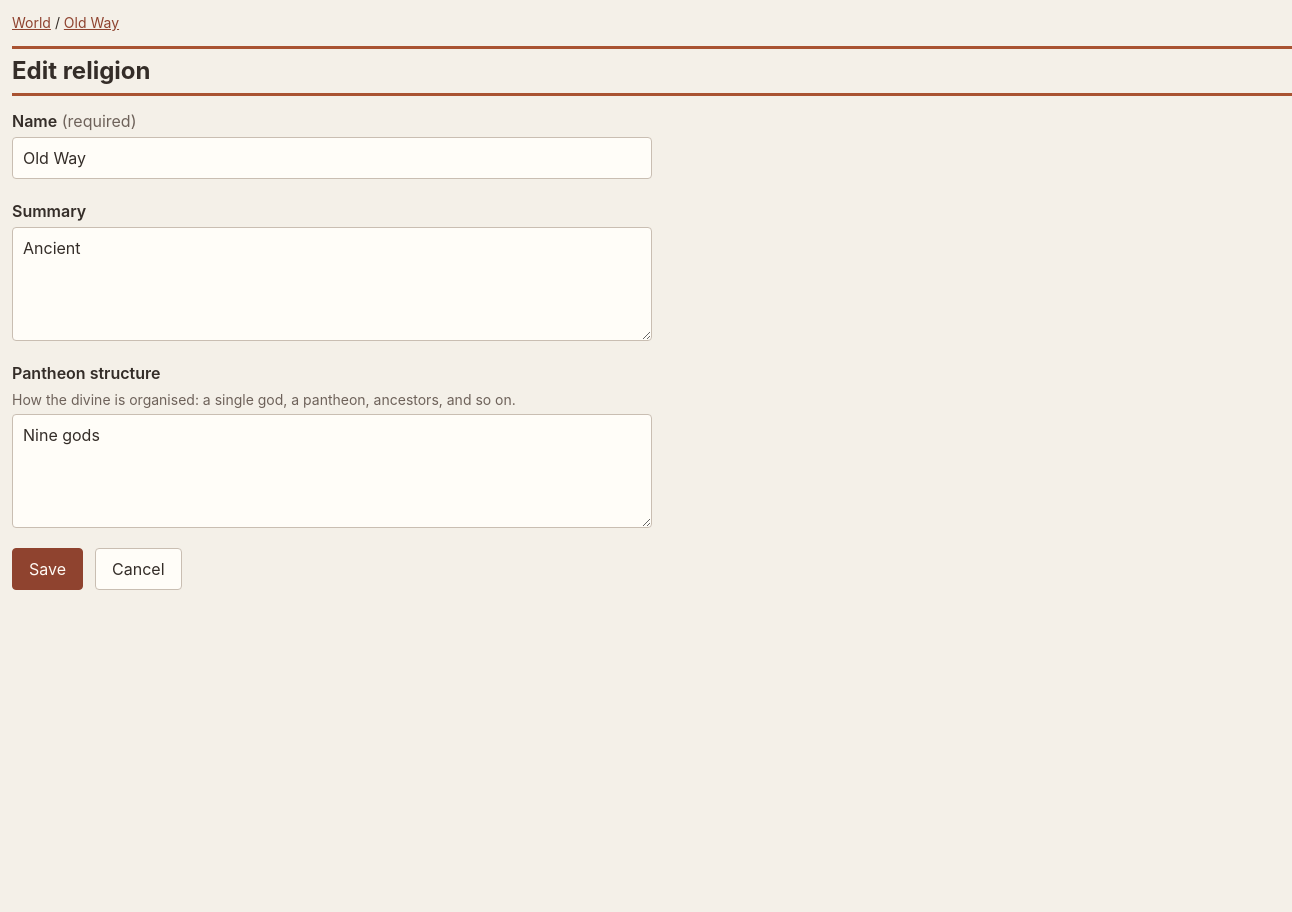
EditReligionPage › keeps the user's values across a stale write
The image size is (1292, 912).
Expected: the field labelled "Name (required)" is shown, 12,137 -> 652,179
Replace the text in the text box labelled "Summary" with "Mine". click: x=332, y=284
box: 12,227 -> 652,341
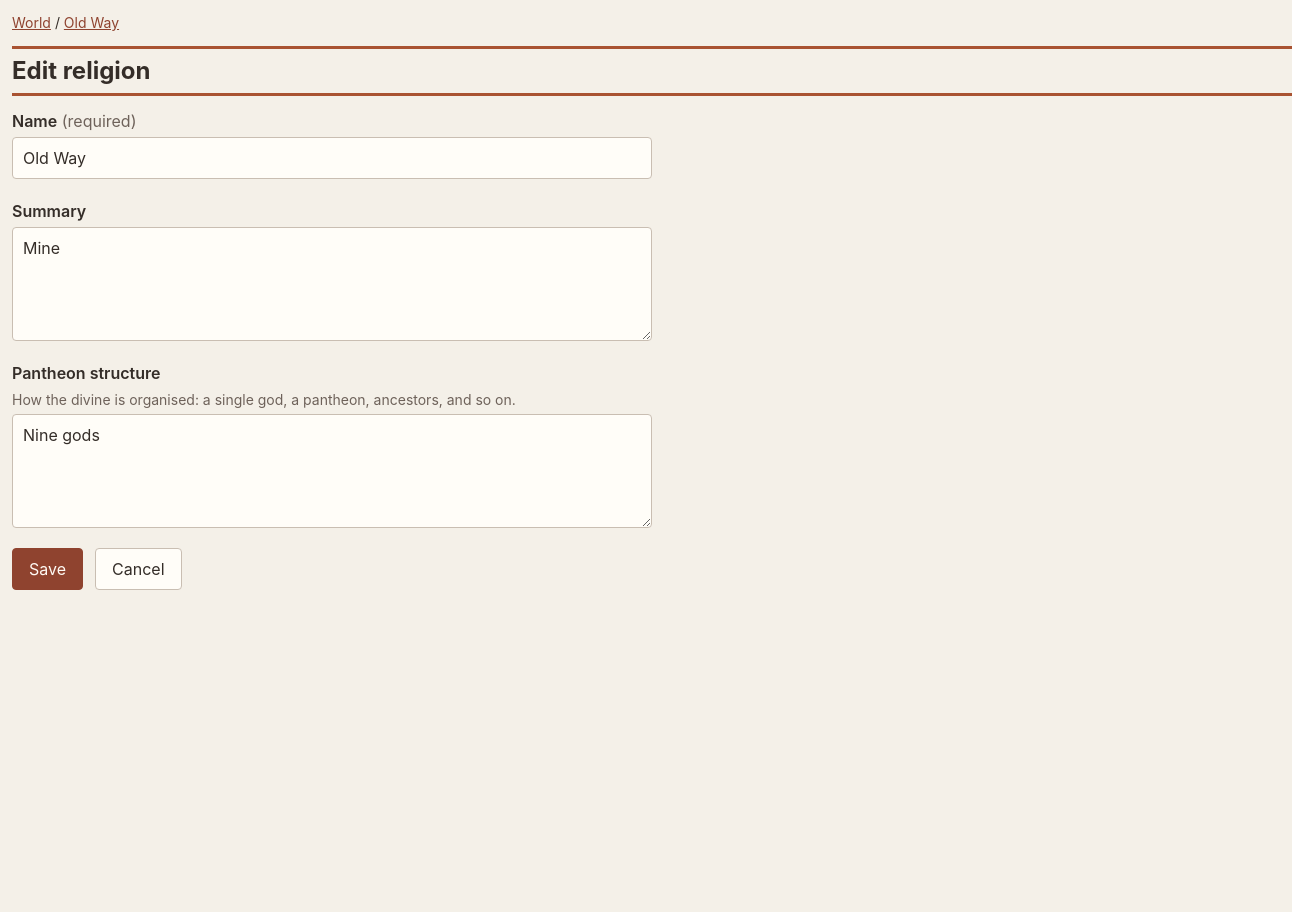
Click the button "Save". click: x=48, y=569
box: 12,548 -> 83,590
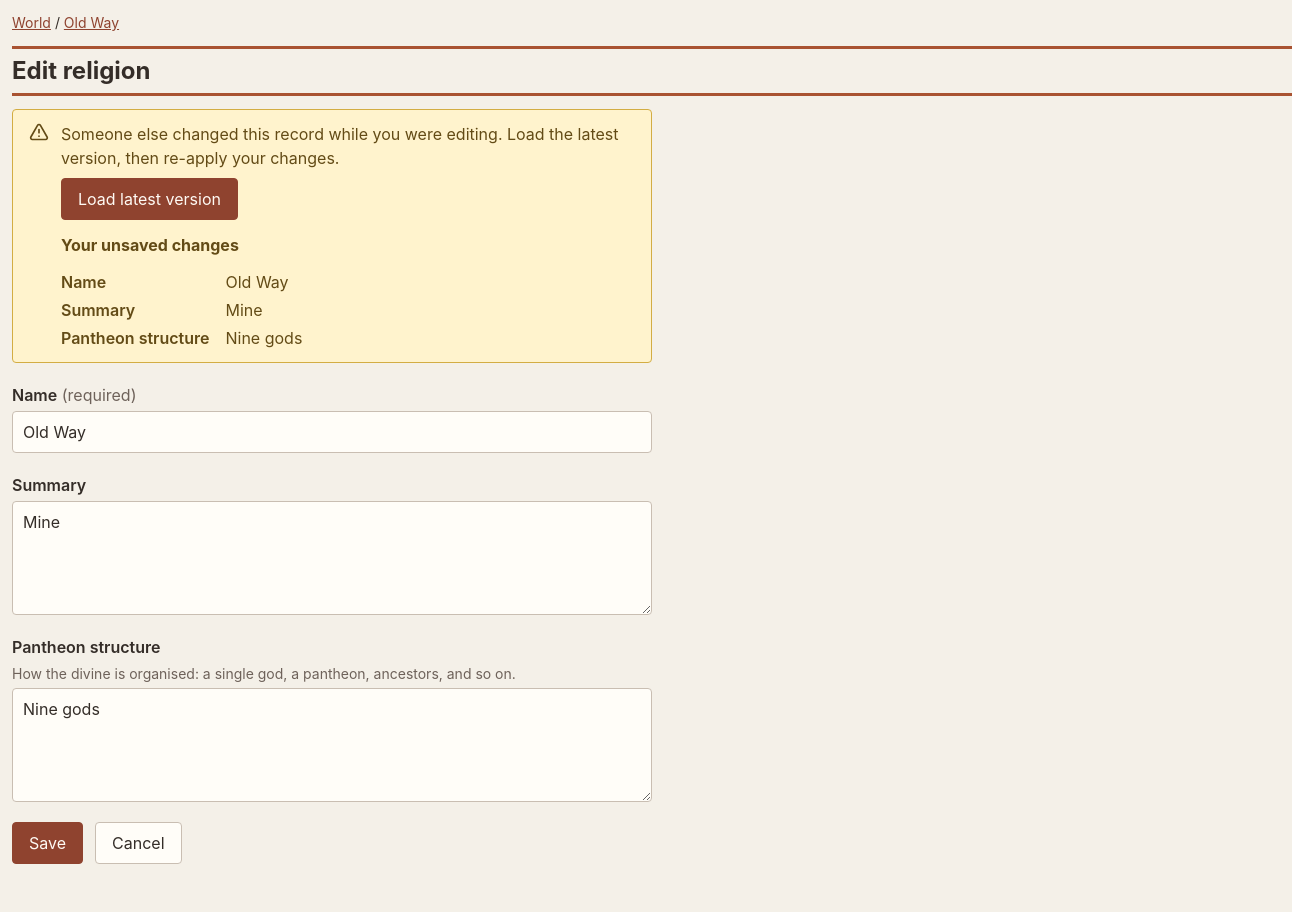
Now the message shows "Someone else changed this record", box 61,124 -> 618,168
Click the button "Load latest version". click: x=149, y=199
box: 61,178 -> 238,220
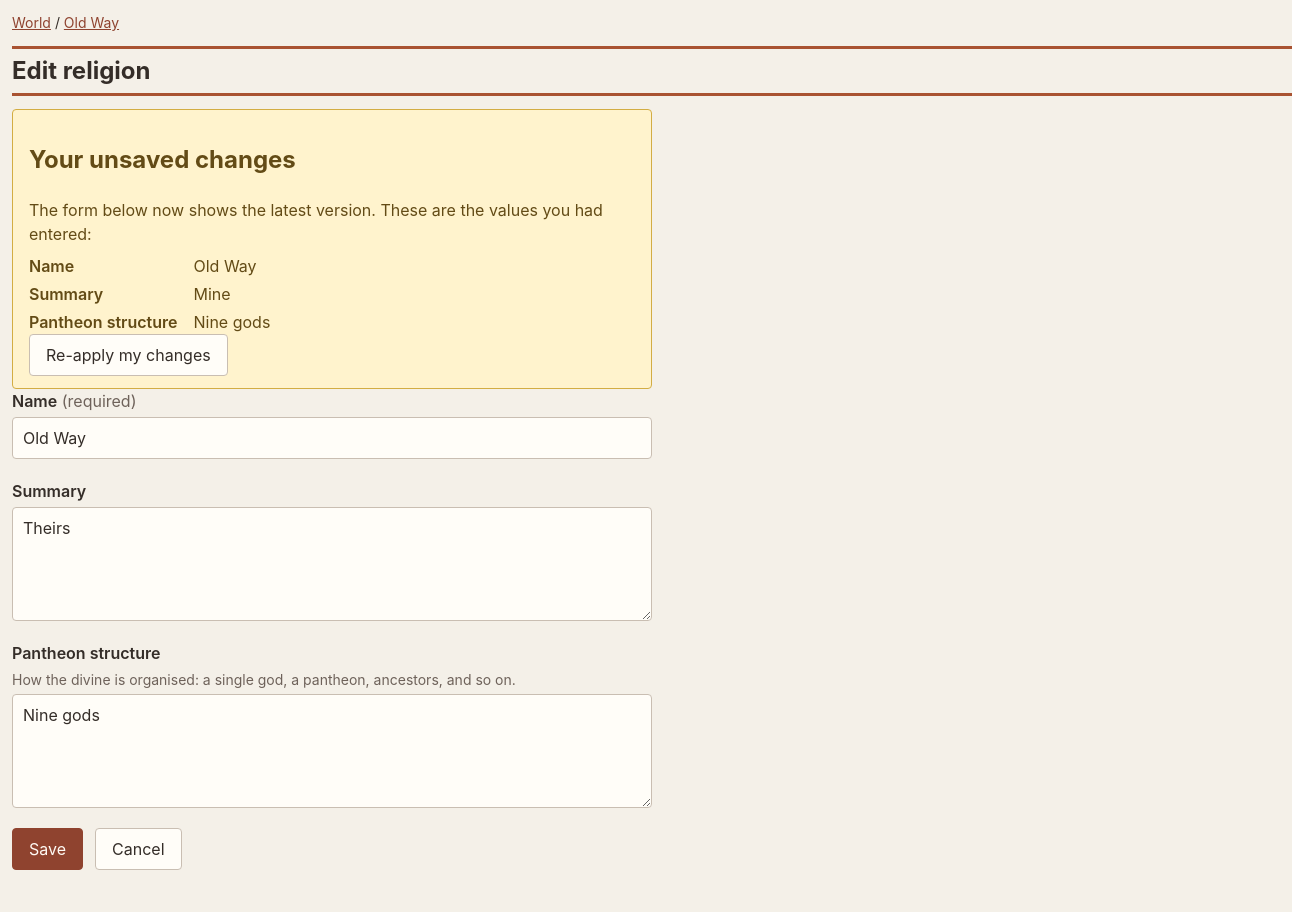
Now the text box labelled "Summary" holds "Theirs", box 12,507 -> 652,621
Now the element "Your unsaved changes" shows "Mine", box 194,284 -> 231,304
